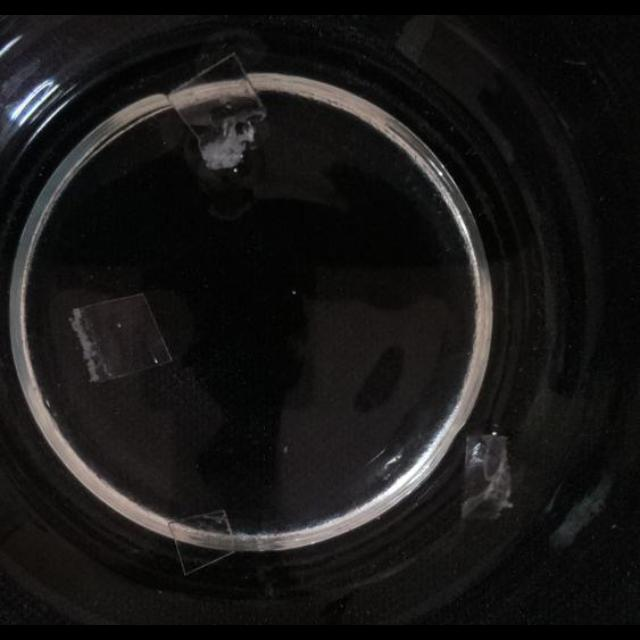Film: (163, 53, 269, 173), (68, 294, 178, 386), (456, 431, 516, 517), (170, 511, 240, 575)
